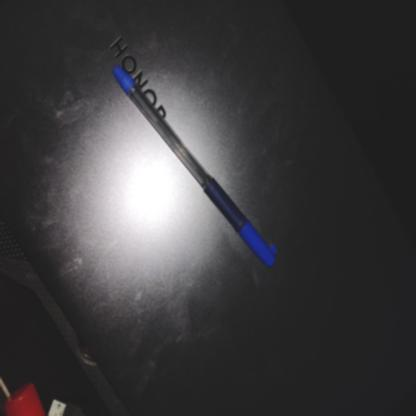pen: (96, 51, 305, 315)
